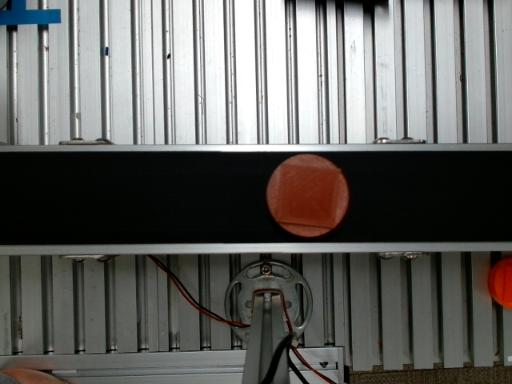Brown_Waper: (266, 154, 349, 237)
Square: (274, 162, 341, 229)
